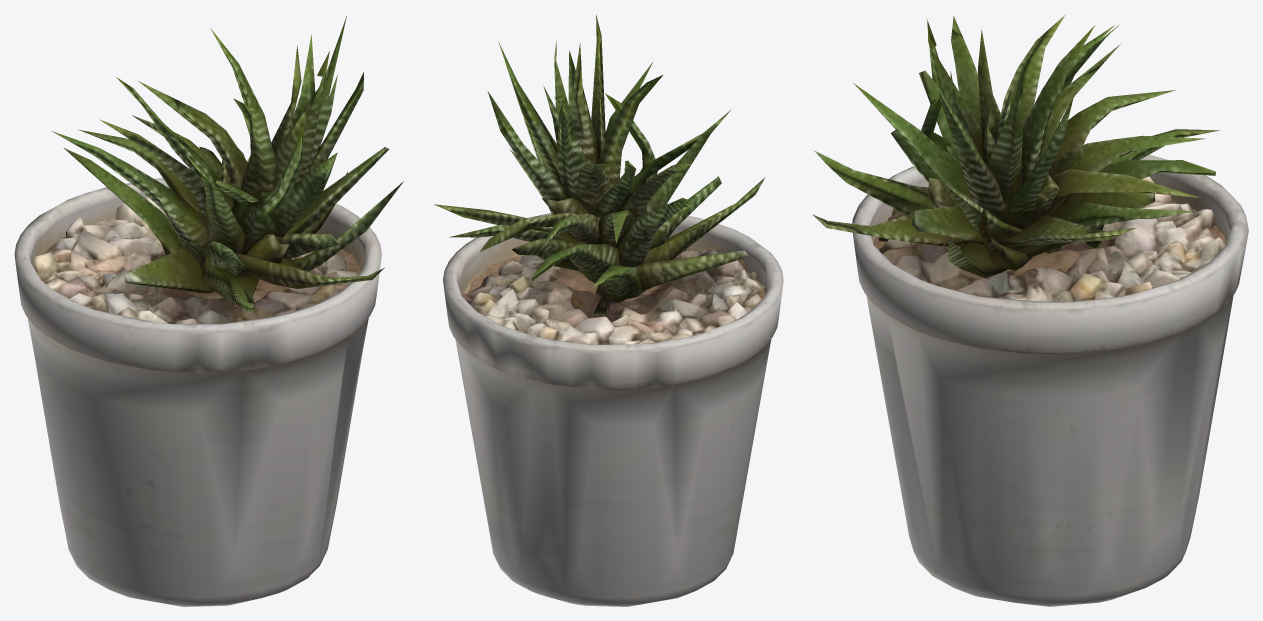
File: plant_small.glb
3 renders of one model, left to right at view 1: azimuth 30°, elevation 25°; view 2: azimuth 150°, elevation 25°; view 3: azimuth 270°, elevation 25°, orthographic. The views are drawn at different scales.
Visible parts, largest first — view 1: potted_plant_04_pot, potted_plant_04_plant, potted_plant_04_ground, potted_plant_04_dirt; view 2: potted_plant_04_pot, potted_plant_04_plant, potted_plant_04_ground, potted_plant_04_dirt; view 3: potted_plant_04_pot, potted_plant_04_plant, potted_plant_04_ground, potted_plant_04_dirt.
Boxes of the visible parts, left/top/right/bottom form: potted_plant_04_pot: left=14, top=178, right=381, bottom=606; potted_plant_04_plant: left=52, top=16, right=403, bottom=311; potted_plant_04_ground: left=33, top=196, right=357, bottom=323; potted_plant_04_dirt: left=34, top=236, right=361, bottom=307; potted_plant_04_pot: left=443, top=213, right=783, bottom=606; potted_plant_04_plant: left=434, top=14, right=765, bottom=314; potted_plant_04_ground: left=461, top=247, right=765, bottom=344; potted_plant_04_dirt: left=462, top=247, right=765, bottom=307; potted_plant_04_pot: left=852, top=144, right=1248, bottom=606; potted_plant_04_plant: left=812, top=14, right=1219, bottom=278; potted_plant_04_ground: left=879, top=176, right=1225, bottom=302; potted_plant_04_dirt: left=873, top=200, right=1226, bottom=296.
Bounding box in the file's own units: 0.1672 × 0.2671 × 0.1843.
Materials: 1 (1 with a texture image).
